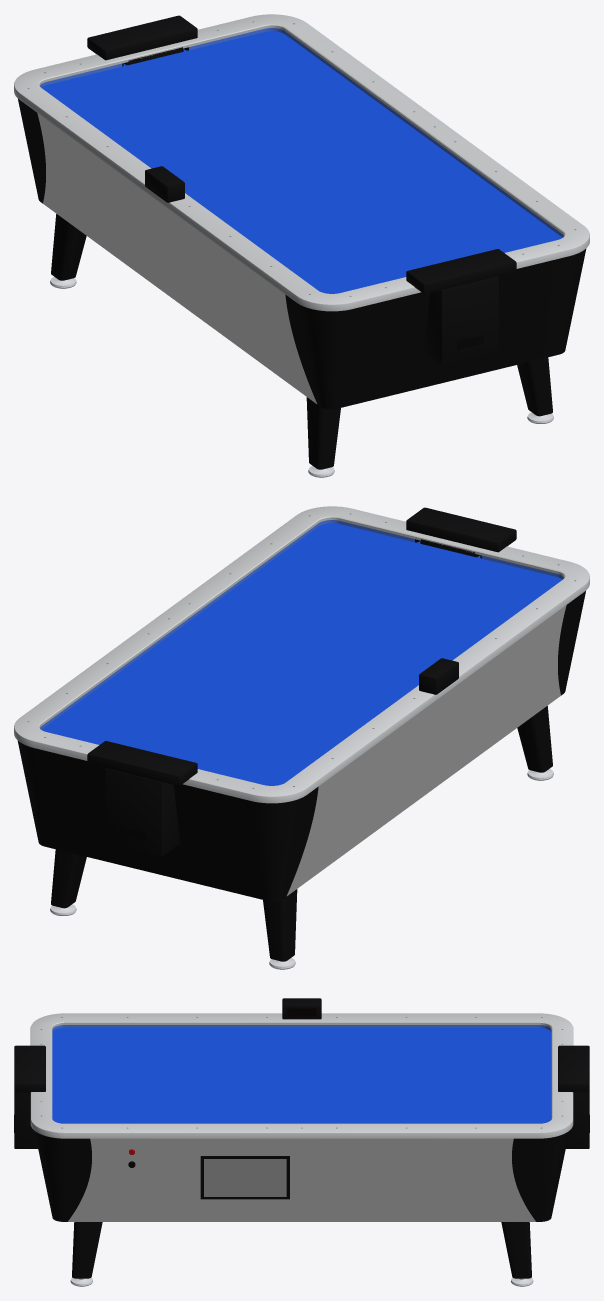
The model's file is table.glb.
The picture shows the model from 3 angles, top to bottom: view 1: azimuth 30°, elevation 25°; view 2: azimuth 150°, elevation 25°; view 3: azimuth 270°, elevation 25°; orthographic projection. The views are drawn at different scales.
Visible parts, largest first — view 1: surface, cabinet, rail, housing-0, legs, housing-1, rail-wall, score-unit, feet; view 2: surface, cabinet, rail, housing-1, legs, housing-0, rail-wall, score-unit, feet; view 3: surface, cabinet, rail, panel, legs, housing-0, housing-1, rail-wall, score-unit.
Boxes of the visible parts, x1=… form: surface: x1=41, y1=31, x2=562, y2=293; cabinet: x1=18, y1=99, x2=586, y2=409; rail: x1=14, y1=14, x2=589, y2=311; housing-0: x1=406, y1=249, x2=516, y2=364; legs: x1=51, y1=214, x2=552, y2=469; housing-1: x1=87, y1=15, x2=197, y2=65; rail-wall: x1=40, y1=28, x2=563, y2=237; score-unit: x1=145, y1=166, x2=184, y2=202; feet: x1=50, y1=276, x2=553, y2=477; surface: x1=41, y1=523, x2=562, y2=785; cabinet: x1=17, y1=591, x2=585, y2=901; rail: x1=14, y1=506, x2=589, y2=803; housing-1: x1=87, y1=741, x2=197, y2=856; legs: x1=51, y1=706, x2=552, y2=961; housing-0: x1=406, y1=507, x2=516, y2=557; rail-wall: x1=40, y1=520, x2=563, y2=729; score-unit: x1=419, y1=658, x2=458, y2=694; feet: x1=50, y1=768, x2=553, y2=969; surface: x1=52, y1=1027, x2=551, y2=1123; cabinet: x1=34, y1=1131, x2=569, y2=1221; rail: x1=30, y1=1013, x2=573, y2=1138; panel: x1=200, y1=1156, x2=289, y2=1199; legs: x1=72, y1=1222, x2=531, y2=1278; housing-0: x1=14, y1=1045, x2=45, y2=1148; housing-1: x1=558, y1=1045, x2=589, y2=1148; rail-wall: x1=52, y1=1025, x2=551, y2=1032; score-unit: x1=282, y1=998, x2=321, y2=1019.
Size of the model in its own units: 1.31 by 0.9 by 2.64.
